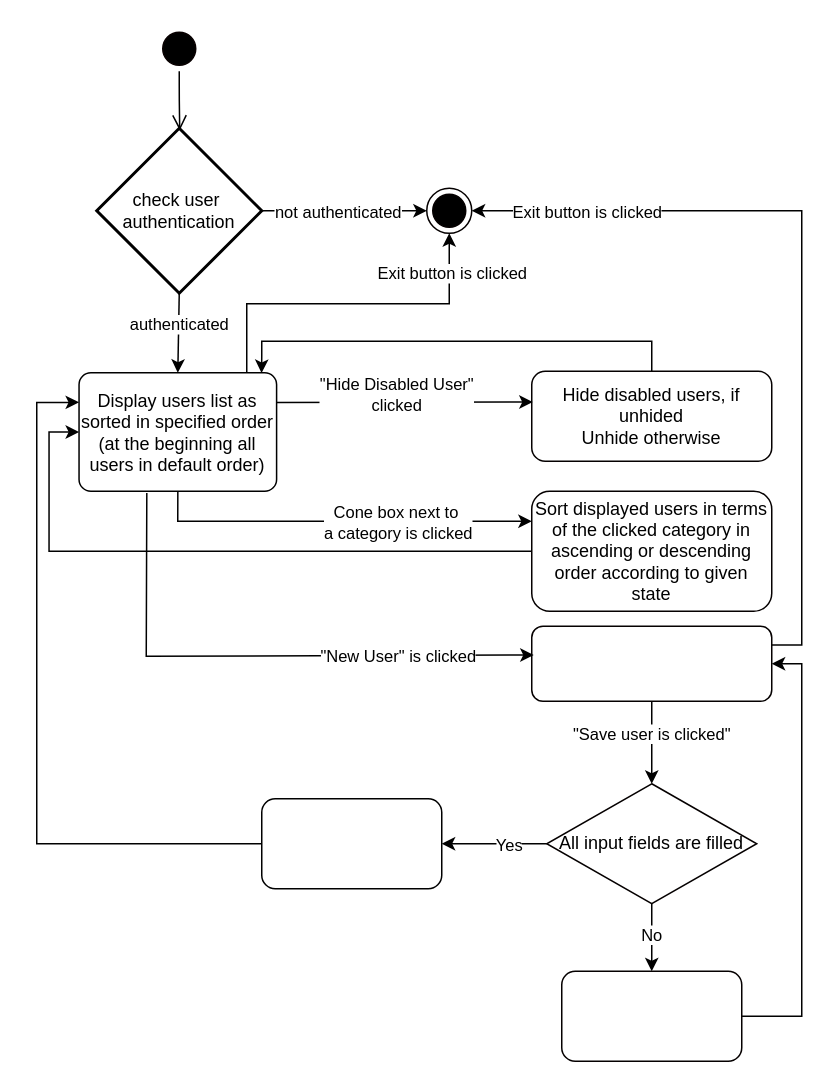
Image size: 840x1088. Some labels were removed from this diagram. Each missing label, with the box of its shape:
Display new user screen: (530, 625, 772, 701)
Display Warning Message: (560, 970, 742, 1061)
Save user to the system: (260, 797, 442, 889)
